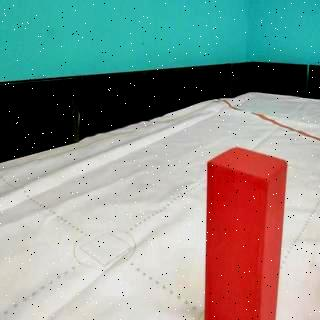redbox: (205, 143, 288, 320)
